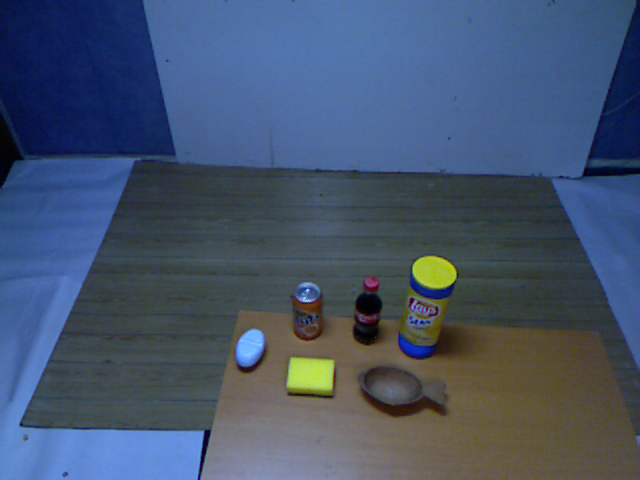coca: (348, 273, 387, 350)
esponja: (278, 354, 341, 403)
jabon: (230, 324, 269, 376)
lata: (287, 278, 327, 343)
papas: (394, 254, 461, 362)
pescado: (354, 360, 452, 416)
